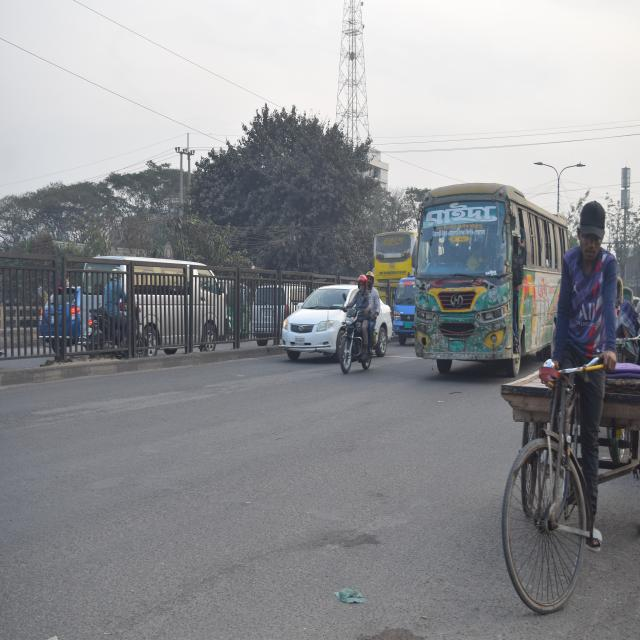bus: (414, 180, 568, 390)
car: (277, 278, 347, 364)
motorbike: (334, 294, 381, 375)
pickup-van: (391, 272, 416, 347)
